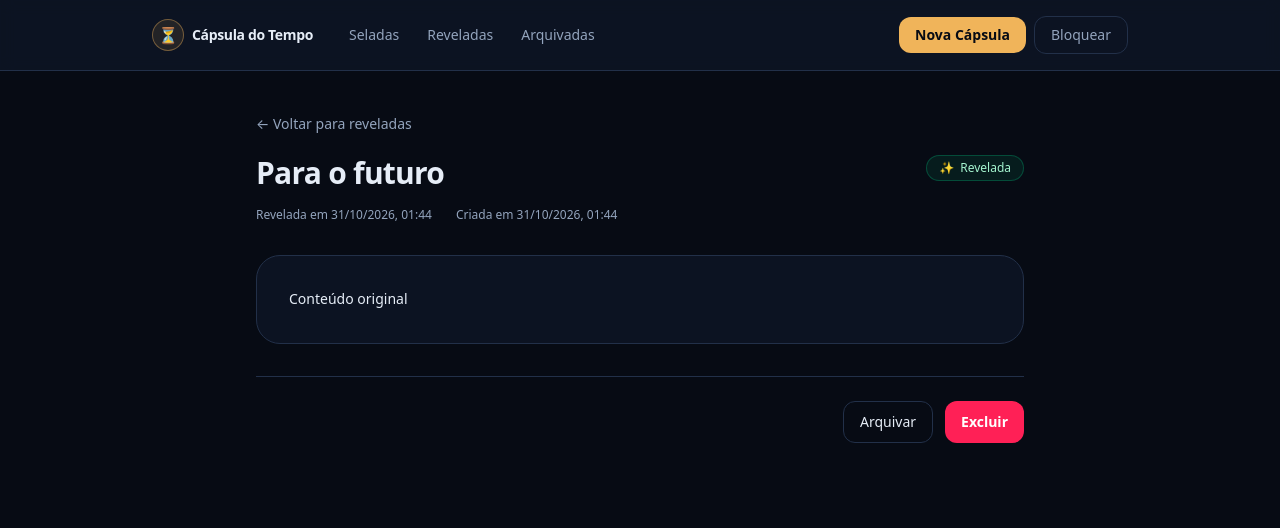
Test: CapsuleDetail › arquiva a cápsula sem perder o conteúdo
Expected: the heading "Para o futuro" is shown, [256,155,444,191]
Click the button "Arquivar". click: (888, 422)
box: [843,401,933,443]
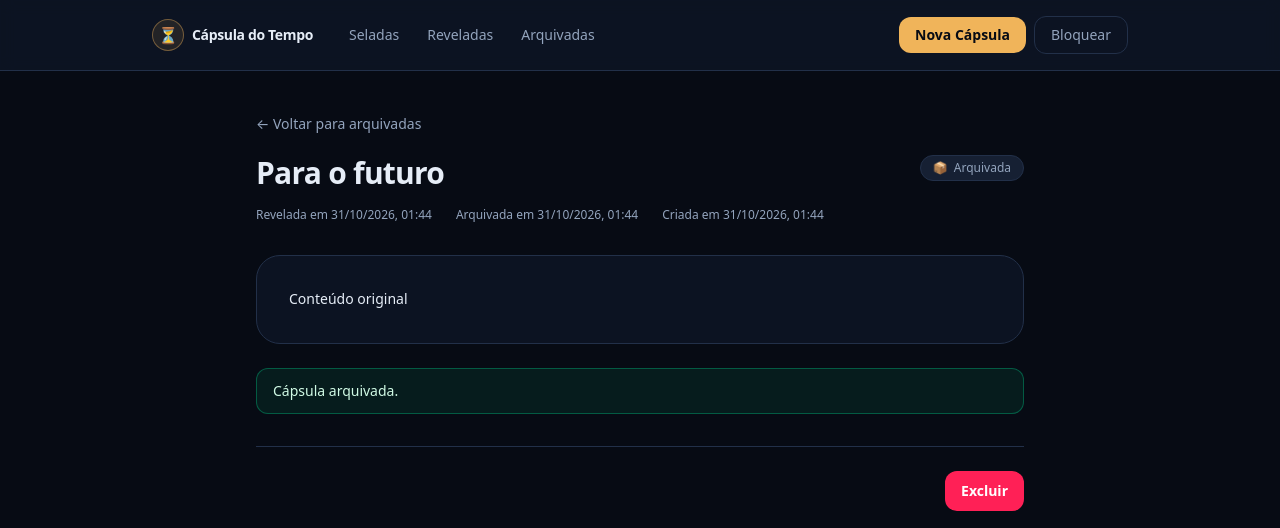
Expected: the text "Cápsula arquivada." is shown, [256,368,1024,414]
Expected: the button "Arquivar" is gone
Expected: the text "Arquivada" is shown, [954,159,1011,176]
